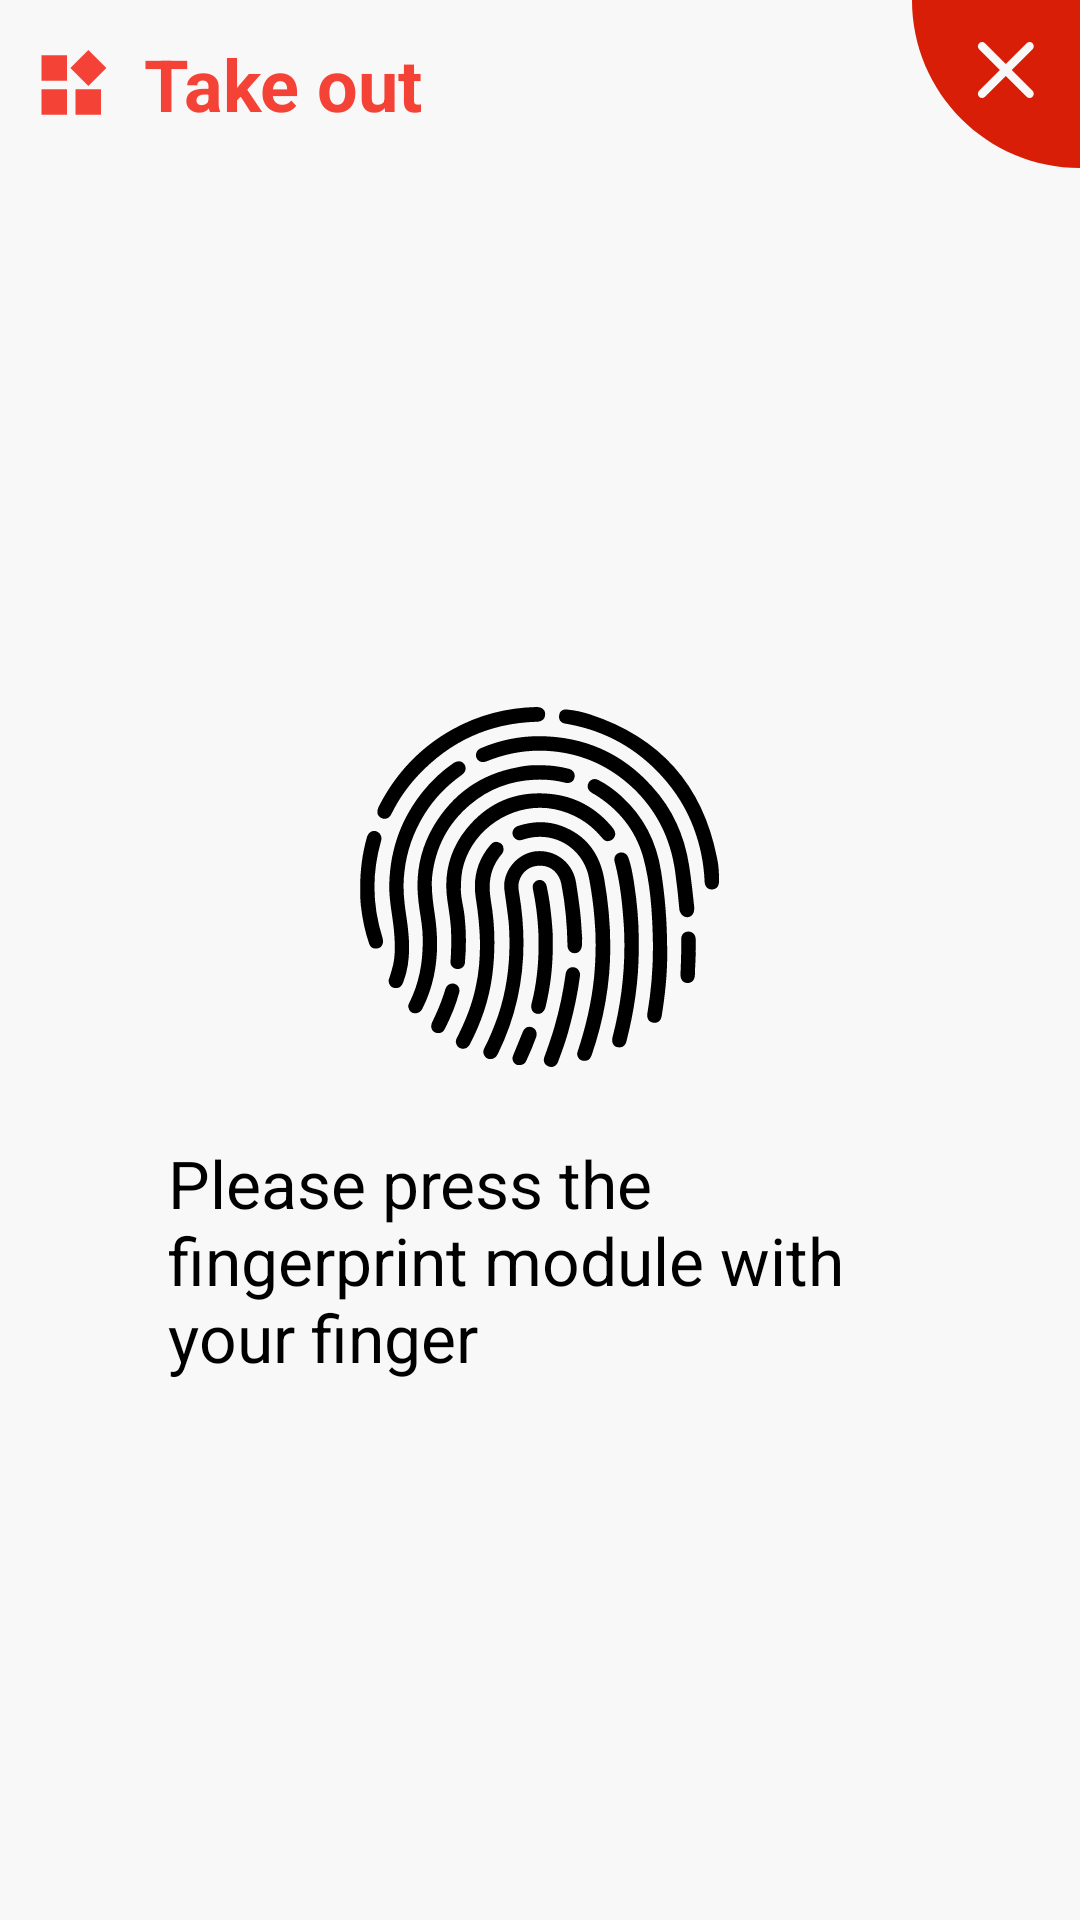

Icon click points for this 1080*1920 phone screenshot, format (x=x, y=y):
close: (x=996, y=84)
